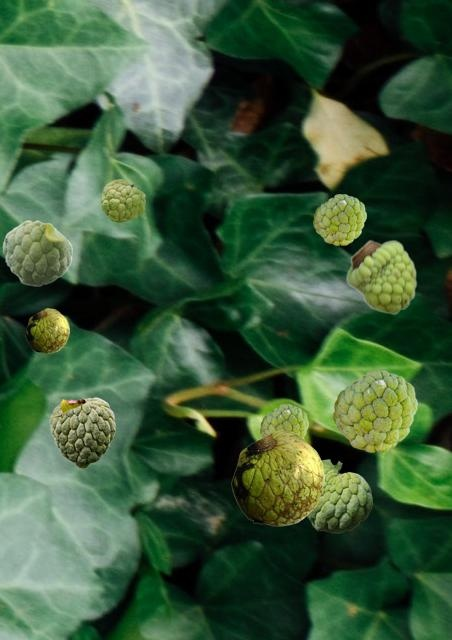atis: (231, 430, 323, 525), (333, 370, 416, 451), (346, 239, 416, 314), (307, 459, 371, 532), (2, 220, 72, 285), (49, 397, 114, 467), (313, 194, 365, 244), (25, 308, 68, 352), (101, 179, 144, 221), (260, 404, 307, 437)
